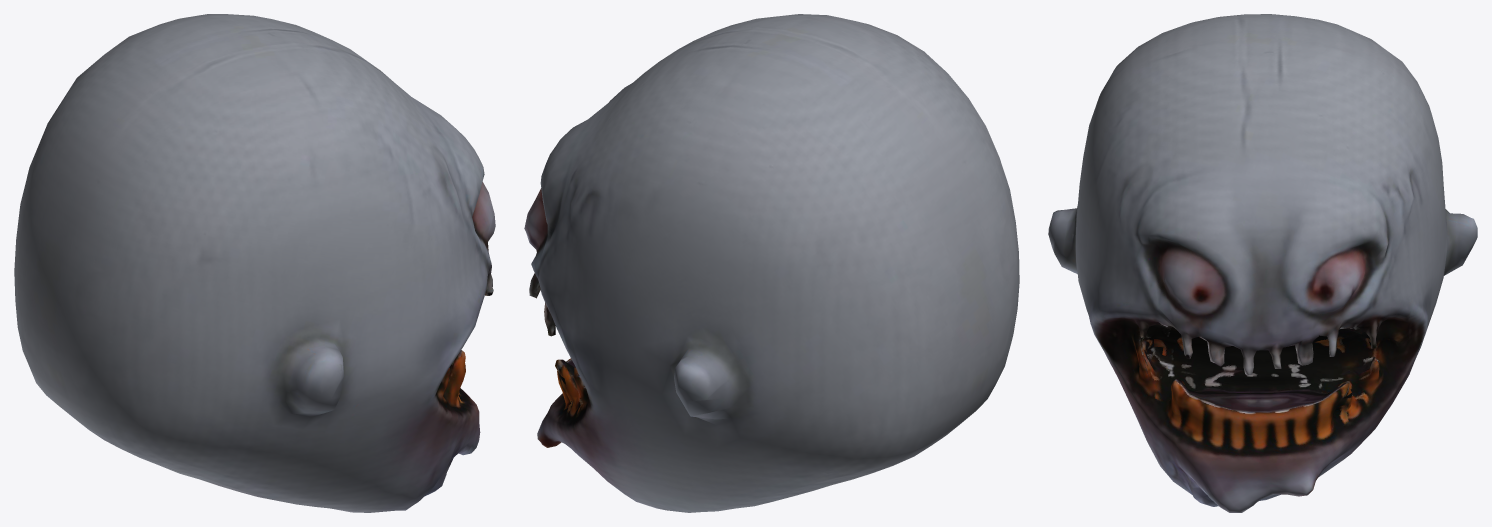
File: 02701ebae6fb_b0a5246d7287_Dark_face_smoke_hor.glb
3 renders of one model, left to right at view 1: azimuth 30°, elevation 25°; view 2: azimuth 150°, elevation 25°; view 3: azimuth 270°, elevation 25°, orthographic. The views are drawn at different scales.
Visible parts, largest first — view 1: mesh; view 2: mesh; view 3: mesh.
Boxes of the visible parts, <box> form: mesh: <box>14,14,495,512</box>; mesh: <box>524,14,1019,512</box>; mesh: <box>1048,14,1477,512</box>.
Bounding box in the file's own units: 0.9169 × 0.9972 × 0.9431.
1 material, 1 textured.
